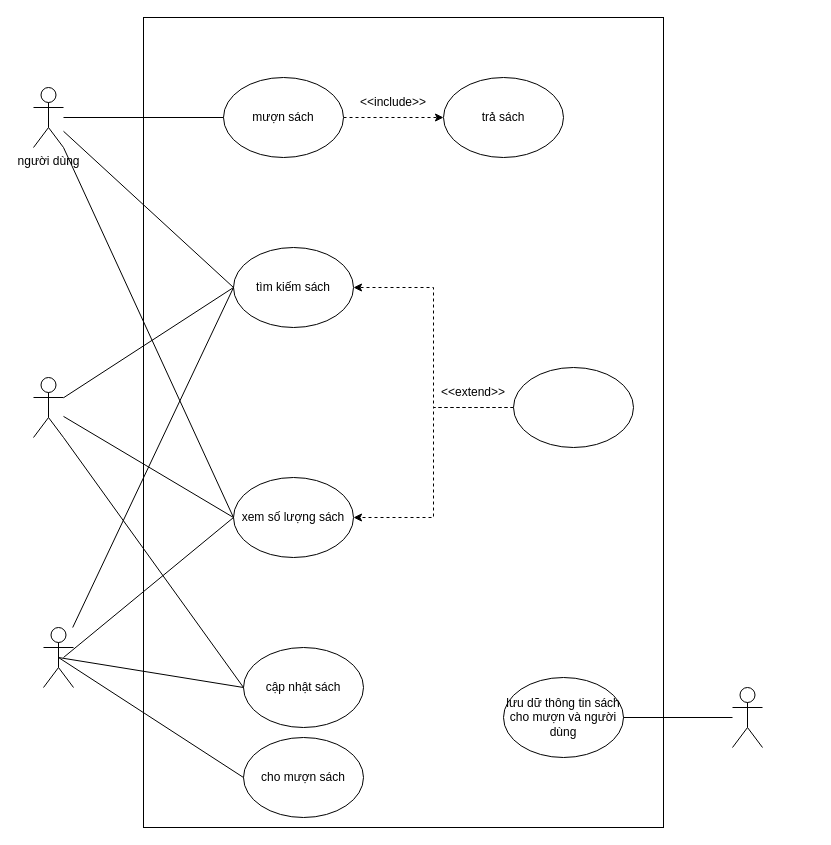
This 831x845 diagram has some shape labels left out. The shapes that lost their labels are listed below. From the top down, each one's centre as x and y in pixels, then its label:
At (x=48, y=407): "admin".
At (x=573, y=407): "xem chi tiết sách".
At (x=58, y=657): "thủ thư".
At (x=747, y=717): "hệ thống cho mượn sách".
